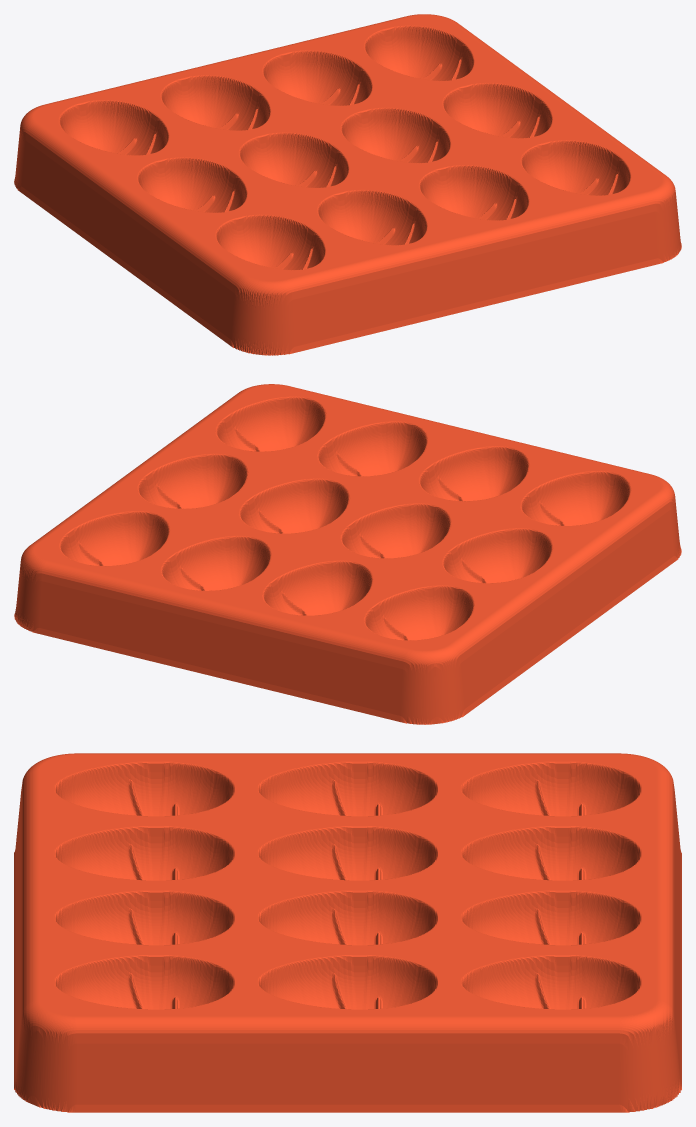
The model's file is mold.glb.
3 renders of one model, top to bottom at view 1: azimuth 30°, elevation 25°; view 2: azimuth 150°, elevation 25°; view 3: azimuth 270°, elevation 25°, orthographic. The views are drawn at different scales.
Visible parts, largest first — view 1: geometry_0; view 2: geometry_0; view 3: geometry_0.
Part boxes in pixels (x1,y1,x2,y2): geometry_0: [14, 14, 681, 355]; geometry_0: [14, 384, 681, 724]; geometry_0: [14, 753, 681, 1112].
Bounding box in the file's own units: 0.0963 × 0.0136 × 0.0963.
